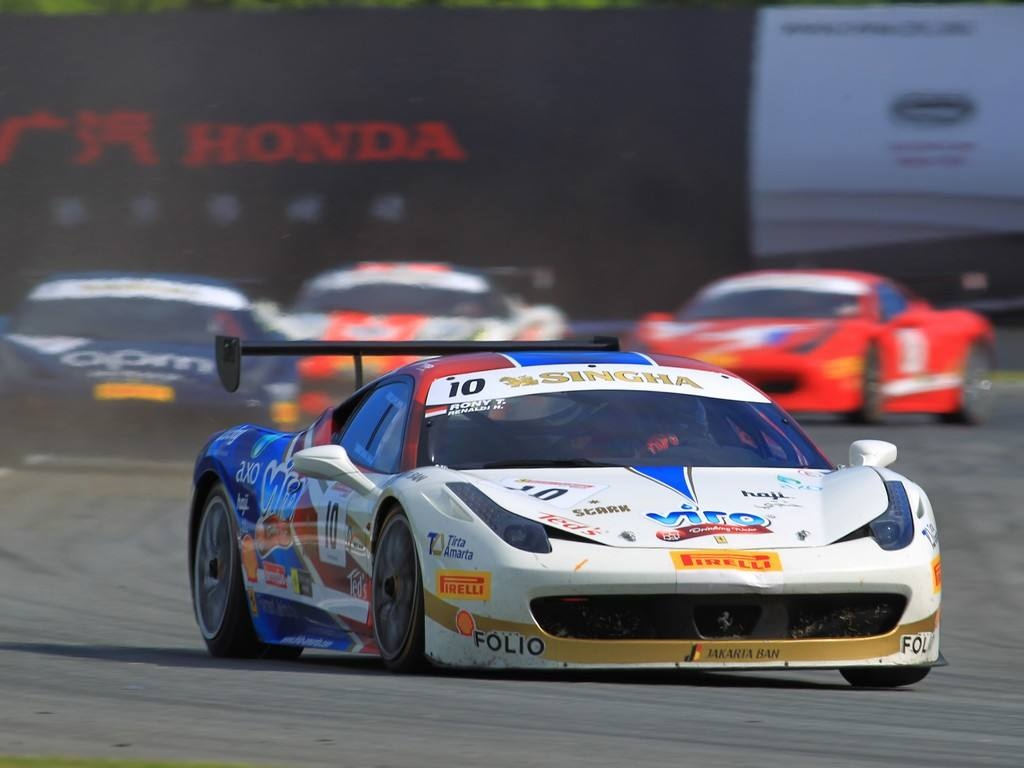racing car: (188, 330, 958, 695)
